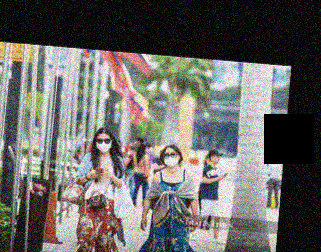with_mask: (94, 136, 111, 152), (161, 150, 178, 166)
without_mask: (210, 153, 220, 165)
